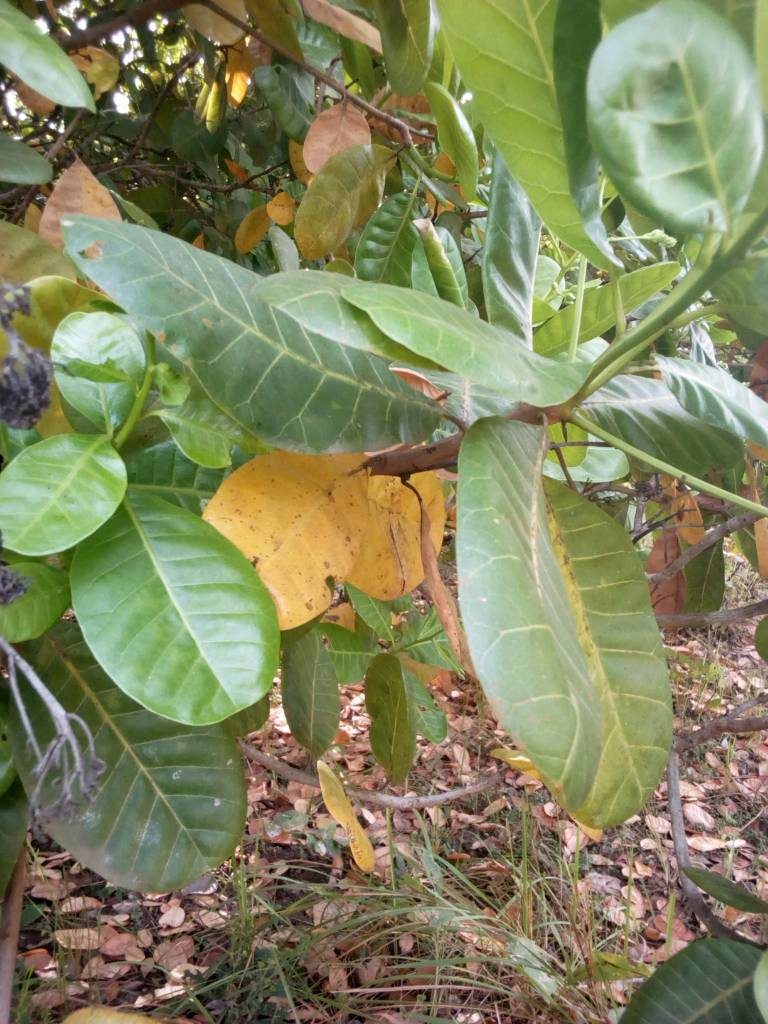Dessèchement des bourgeons: (1, 652, 102, 852), (4, 286, 49, 430), (2, 557, 27, 605)
